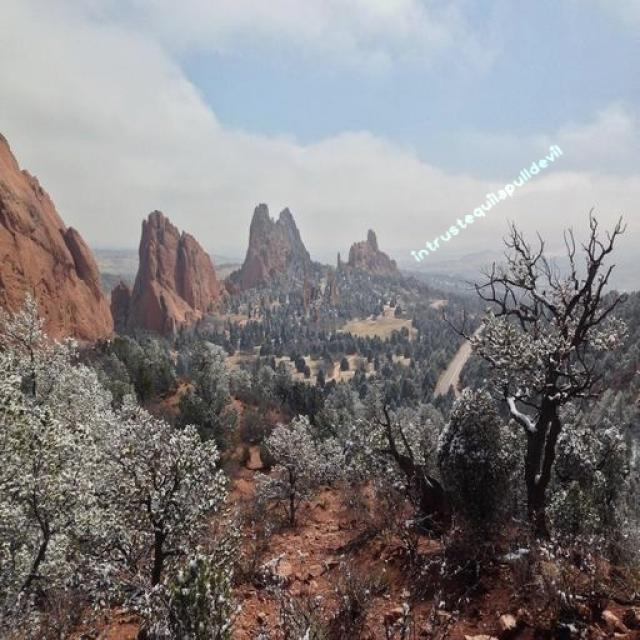watermark: (413, 140, 563, 264)
